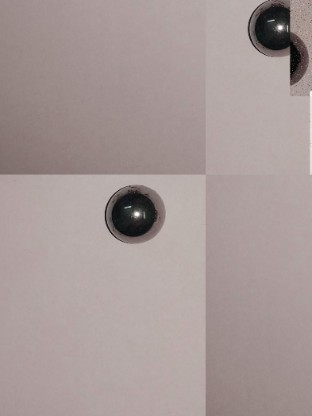ironball: (96, 182, 170, 240), (245, 1, 290, 60), (290, 0, 312, 96)
